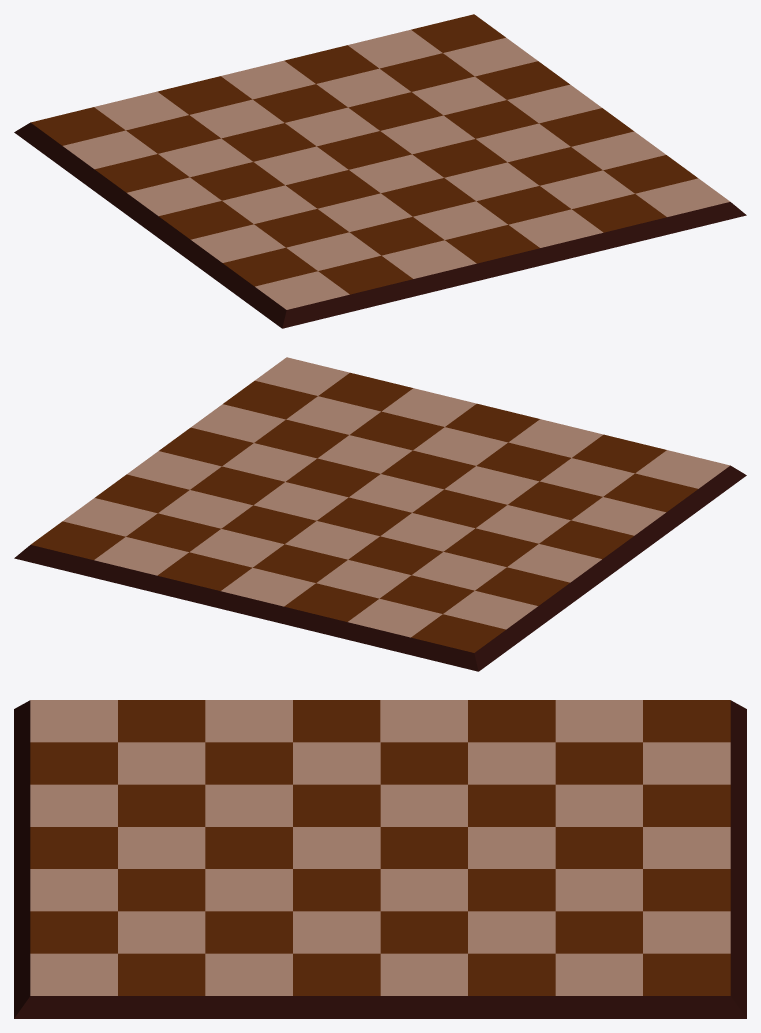
The model's file is CheckerBoard.fbx.
3 renders of one model, top to bottom at view 1: azimuth 30°, elevation 25°; view 2: azimuth 150°, elevation 25°; view 3: azimuth 270°, elevation 25°, orthographic. The views are drawn at different scales.
Visible parts, largest first — view 1: CheckerBoard; view 2: CheckerBoard; view 3: CheckerBoard.
Part boxes in pixels (bbox=[...]): CheckerBoard: bbox=[14, 14, 746, 328]; CheckerBoard: bbox=[14, 357, 746, 671]; CheckerBoard: bbox=[14, 700, 746, 1018].
Bounding box in the file's own units: 1759 × 42.58 × 1759.
